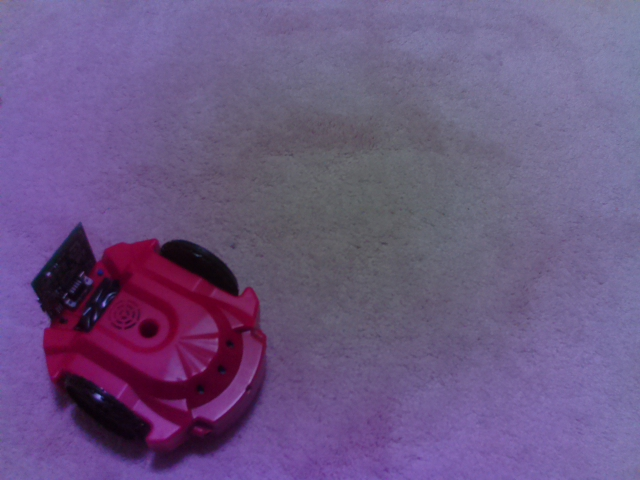chassis: (29, 218, 270, 455)
